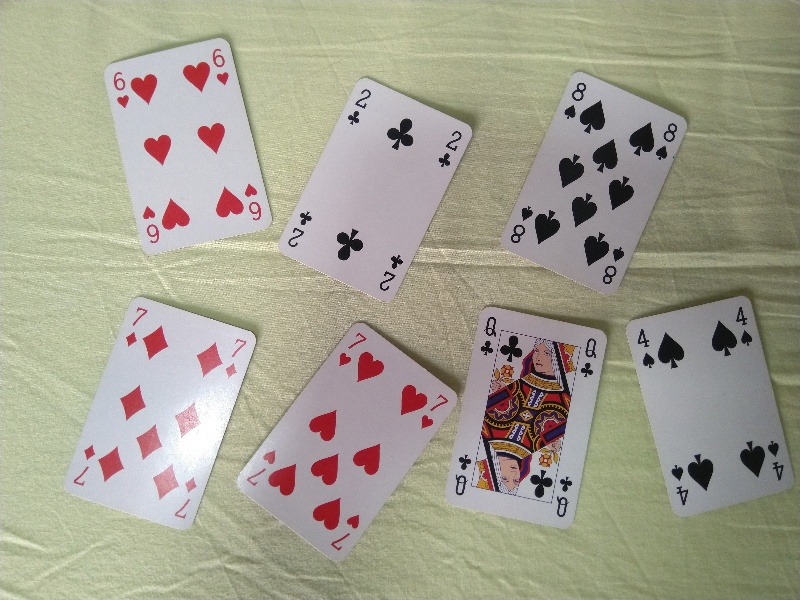2c: (344, 86, 374, 126), (434, 129, 464, 169), (376, 253, 404, 294), (286, 210, 315, 248)
4s: (764, 437, 786, 482), (670, 463, 691, 509), (733, 306, 754, 350), (636, 326, 656, 371)
6h: (109, 66, 131, 109), (210, 47, 231, 89), (139, 205, 161, 245), (244, 179, 262, 224)
7d: (124, 305, 150, 348), (173, 476, 198, 520), (224, 337, 249, 378), (72, 444, 96, 486)
7h: (418, 392, 451, 430), (246, 449, 277, 487), (330, 514, 360, 551), (338, 330, 367, 368)
8s: (600, 245, 626, 288), (654, 120, 680, 161), (563, 80, 588, 121), (508, 205, 533, 246)
Qc: (554, 475, 575, 521), (452, 453, 472, 499), (480, 310, 497, 358), (579, 337, 597, 379)
